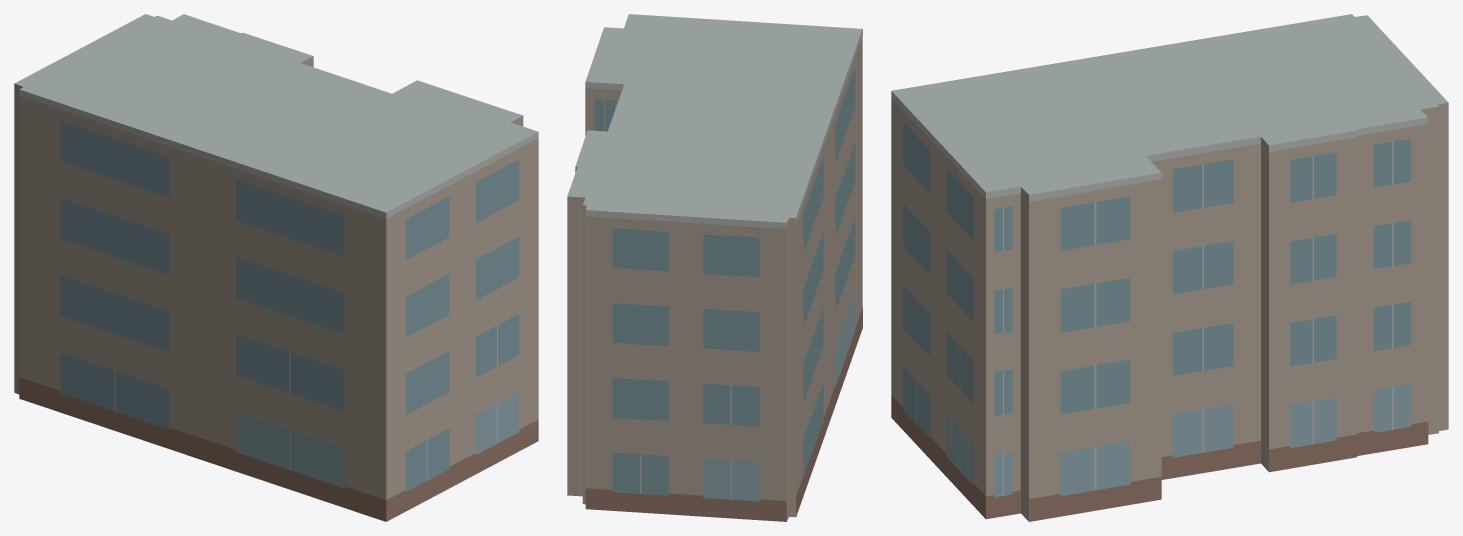
Rendered from survey-upis-32941063.glb.
3 renders of one model, left to right at view 1: azimuth 30°, elevation 25°; view 2: azimuth 150°, elevation 25°; view 3: azimuth 270°, elevation 25°, orthographic. The views are drawn at different scales.
Visible parts, largest first — view 1: survey-upis-32941063.tmp; view 2: survey-upis-32941063.tmp; view 3: survey-upis-32941063.tmp.
Boxes of the visible parts, left/top/right/bottom form: survey-upis-32941063.tmp: left=14, top=14, right=538, bottom=521; survey-upis-32941063.tmp: left=567, top=14, right=862, bottom=521; survey-upis-32941063.tmp: left=891, top=14, right=1448, bottom=521.
Size of the model in its own units: 13.91 by 11.7 by 18.09.
